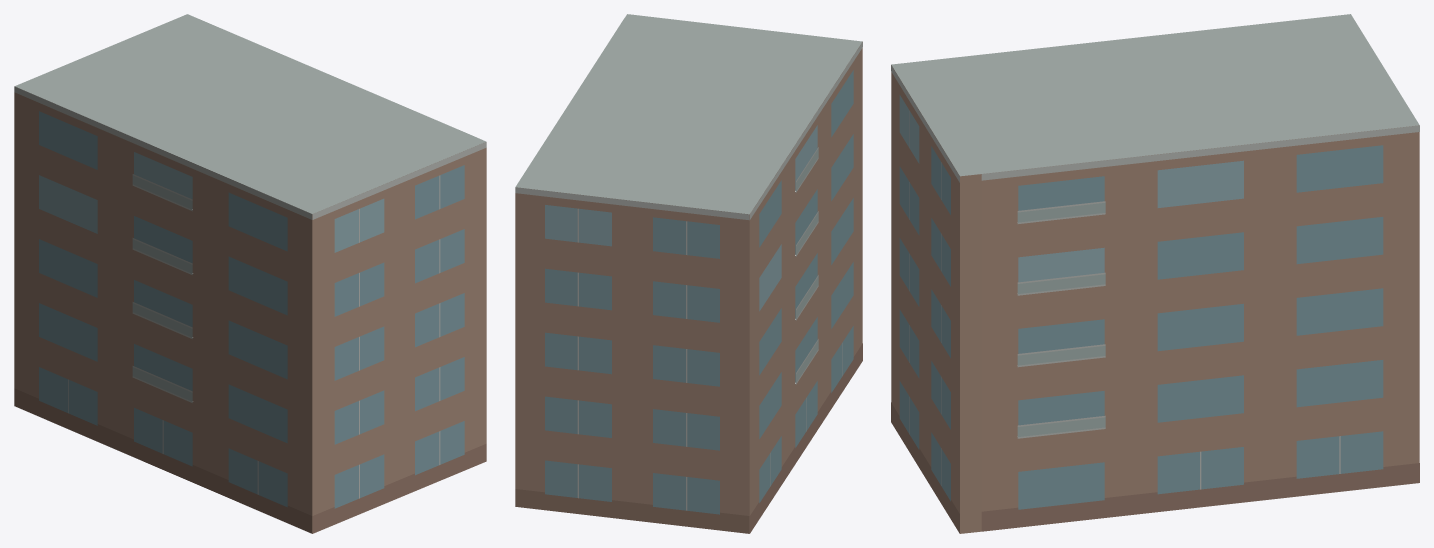
Rendered from survey-upis-32722139.glb.
3 views of the same model, side by side, from view 1: azimuth 30°, elevation 25°; view 2: azimuth 150°, elevation 25°; view 3: azimuth 270°, elevation 25° (orthographic). The views are drawn at different scales.
Visible parts, largest first — view 1: survey-upis-32722139.tmp; view 2: survey-upis-32722139.tmp; view 3: survey-upis-32722139.tmp.
Part boxes in pixels (left/top/right/bottom): survey-upis-32722139.tmp: left=14, top=14, right=486, bottom=533; survey-upis-32722139.tmp: left=515, top=14, right=862, bottom=533; survey-upis-32722139.tmp: left=891, top=14, right=1419, bottom=533.
Size of the model in its own units: 12.75 by 13.1 by 17.56.
